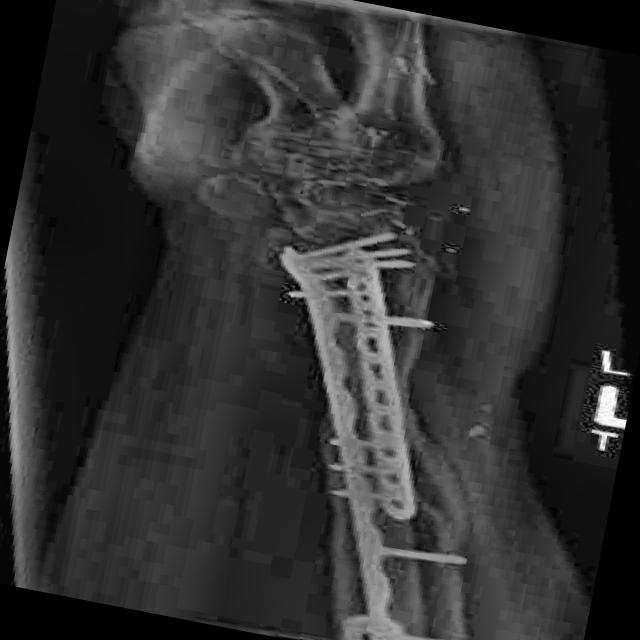fingers positive: (242, 224, 471, 303)
